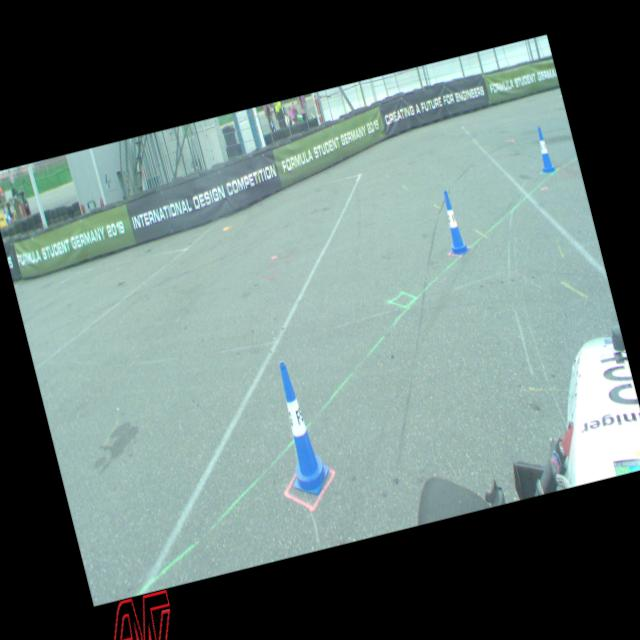blue_cone: (264, 358, 334, 498), (436, 188, 471, 258), (531, 124, 558, 176)
